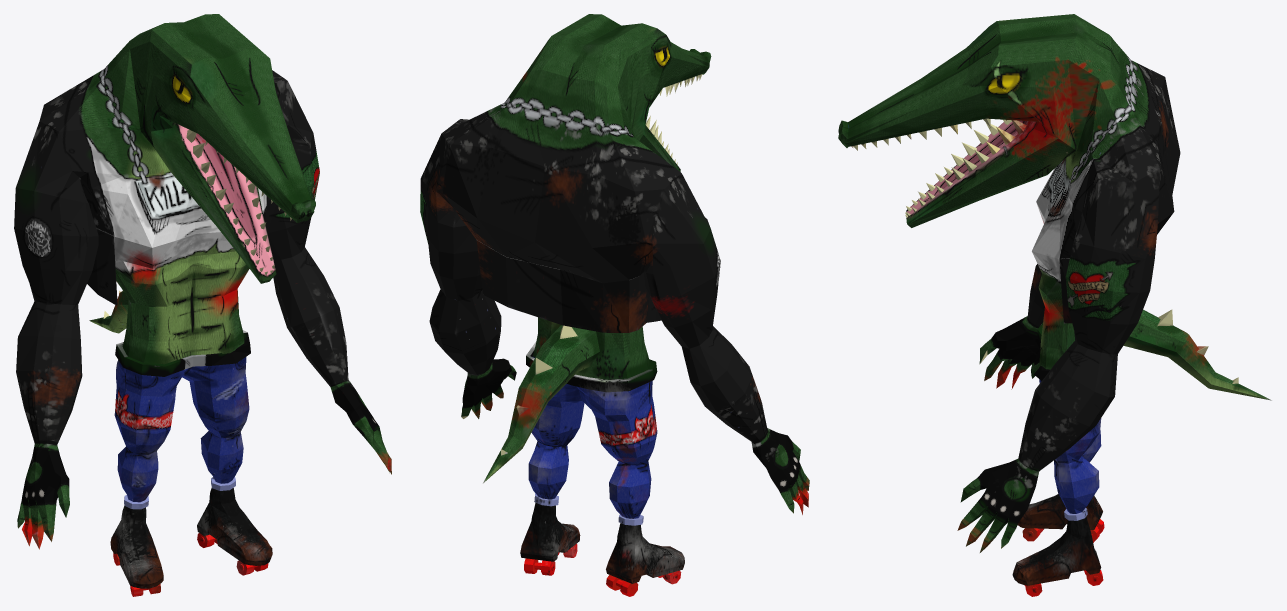
File: cocodrilaBonesSelect_000001.obj
3 renders of one model, left to right at view 1: azimuth 30°, elevation 25°; view 2: azimuth 150°, elevation 25°; view 3: azimuth 270°, elevation 25°, orthographic.
Parts seen in each view (by area): view 1: Crocodile.002_Cylinder.002; view 2: Crocodile.002_Cylinder.002; view 3: Crocodile.002_Cylinder.002.
Part boxes in pixels (left/top/right/bottom): Crocodile.002_Cylinder.002: left=14, top=14, right=391, bottom=596; Crocodile.002_Cylinder.002: left=420, top=14, right=809, bottom=596; Crocodile.002_Cylinder.002: left=838, top=14, right=1271, bottom=596.
Bounding box in the file's own units: 4.51 × 6.72 × 4.89.
